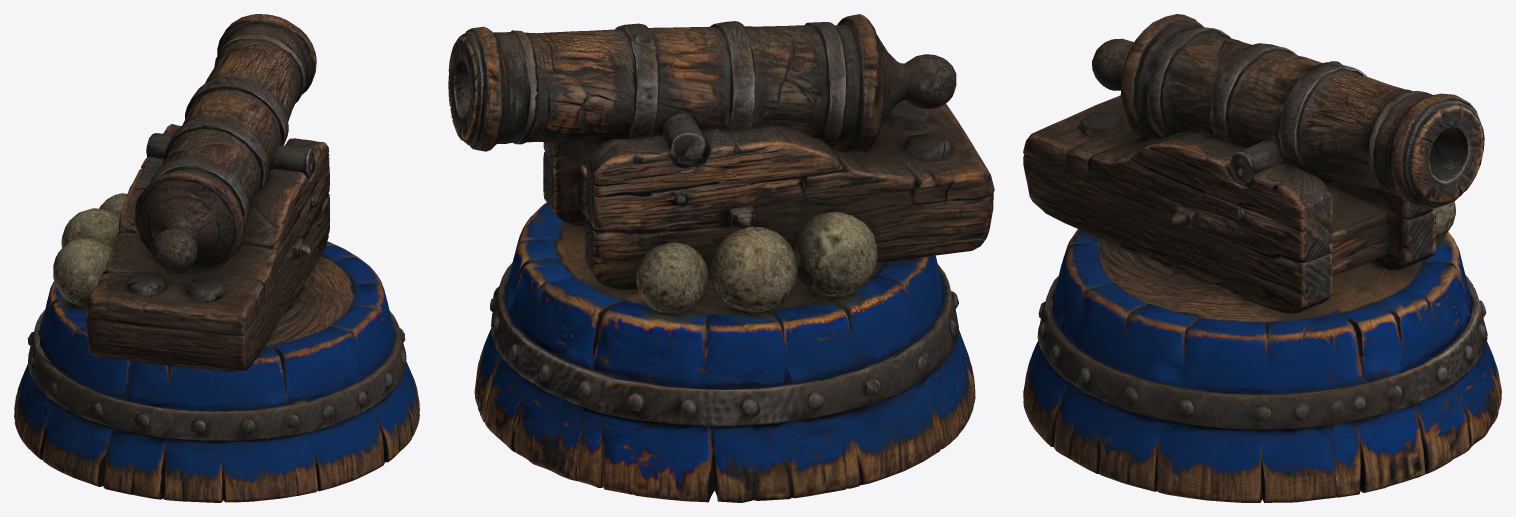
Rendered from piece_bombard.glb.
3 views of the same model, side by side, from view 1: azimuth 30°, elevation 25°; view 2: azimuth 150°, elevation 25°; view 3: azimuth 270°, elevation 25° (orthographic). The views are drawn at different scales.
Parts seen in each view (by area): view 1: piece_bombard; view 2: piece_bombard; view 3: piece_bombard.
Boxes of the visible parts, bbox=[...] form: piece_bombard: bbox=[14, 14, 419, 502]; piece_bombard: bbox=[448, 14, 994, 502]; piece_bombard: bbox=[1023, 14, 1501, 502].
Bounding box in the file's own units: 1 × 0.8657 × 0.9973.
Materials: 1 (1 with a texture image).
